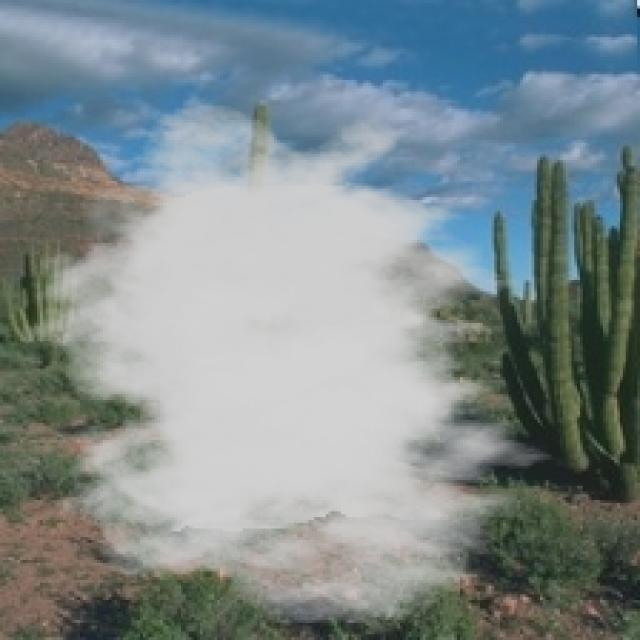smoke: (12, 103, 577, 626)
